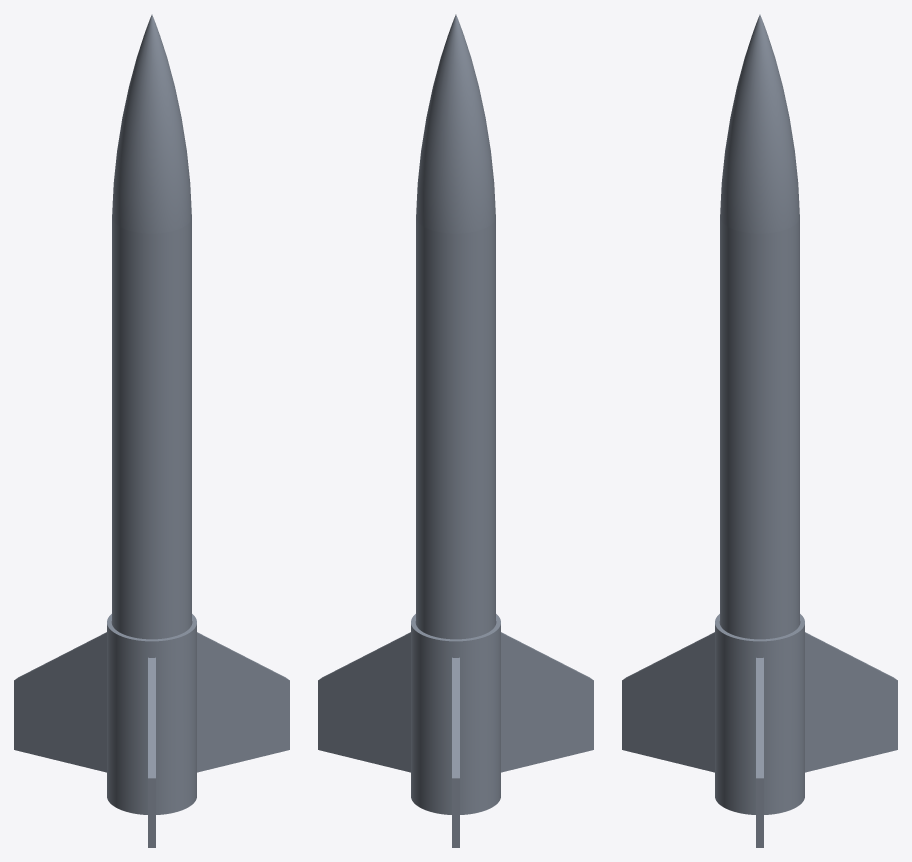
The model's file is step-3.glb.
3 renders of one model, left to right at view 1: azimuth 30°, elevation 25°; view 2: azimuth 150°, elevation 25°; view 3: azimuth 270°, elevation 25°, orthographic.
Parts seen in each view (by area): view 1: face_c10ec04866fb8ece5a7f, face_ae1fc709e6f1a2a1fdbb, face_8b58d4a90c0b8a1aa91f, face_433370cde01b1eb9ba41, face_52a289b0be338e925783, face_a4f7f2f787812a2de124, face_1d5d9baa3dbe48393f25; view 2: face_c10ec04866fb8ece5a7f, face_ae1fc709e6f1a2a1fdbb, face_8b58d4a90c0b8a1aa91f, face_2cb684508714d971b2ba, face_cda3f4000f37f0bfc1c2, face_7a74cfe903d603c42f4c, face_9bcfe81b735d2f61d6ed; view 3: face_c10ec04866fb8ece5a7f, face_ae1fc709e6f1a2a1fdbb, face_8b58d4a90c0b8a1aa91f, face_a77de4024c3f349497d5, face_656c450c765b7831a830, face_1a2507edccd04909daf3, face_706ce44c673d53129623.
Part boxes in pixels (<box>): face_c10ec04866fb8ece5a7f: <box>112,218,191,639</box>; face_ae1fc709e6f1a2a1fdbb: <box>107,624,196,814</box>; face_8b58d4a90c0b8a1aa91f: <box>112,14,191,233</box>; face_433370cde01b1eb9ba41: <box>197,633,289,772</box>; face_52a289b0be338e925783: <box>14,633,106,772</box>; face_a4f7f2f787812a2de124: <box>148,657,155,778</box>; face_1d5d9baa3dbe48393f25: <box>148,778,155,847</box>; face_c10ec04866fb8ece5a7f: <box>416,218,495,639</box>; face_ae1fc709e6f1a2a1fdbb: <box>411,624,500,814</box>; face_8b58d4a90c0b8a1aa91f: <box>416,14,495,233</box>; face_2cb684508714d971b2ba: <box>318,633,410,772</box>; face_cda3f4000f37f0bfc1c2: <box>501,633,593,772</box>; face_7a74cfe903d603c42f4c: <box>452,657,459,778</box>; face_9bcfe81b735d2f61d6ed: <box>452,778,459,847</box>; face_c10ec04866fb8ece5a7f: <box>720,218,799,639</box>; face_ae1fc709e6f1a2a1fdbb: <box>715,624,804,814</box>; face_8b58d4a90c0b8a1aa91f: <box>720,14,799,233</box>; face_a77de4024c3f349497d5: <box>805,633,897,772</box>; face_656c450c765b7831a830: <box>622,633,714,772</box>; face_1a2507edccd04909daf3: <box>756,657,763,778</box>; face_706ce44c673d53129623: <box>756,778,763,847</box>.
Bounding box in the file's own units: 0.0747 × 0.27 × 0.0863.
